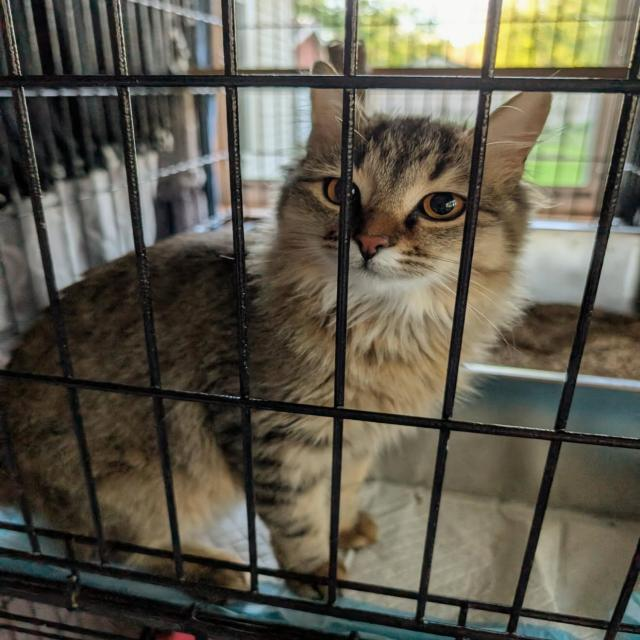maine_coon_cat: (260, 28, 572, 374)
